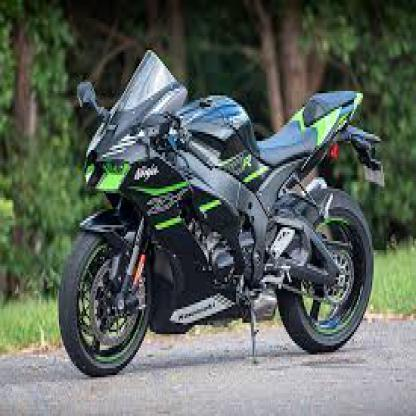Motorcycle: (55, 50, 387, 385)
